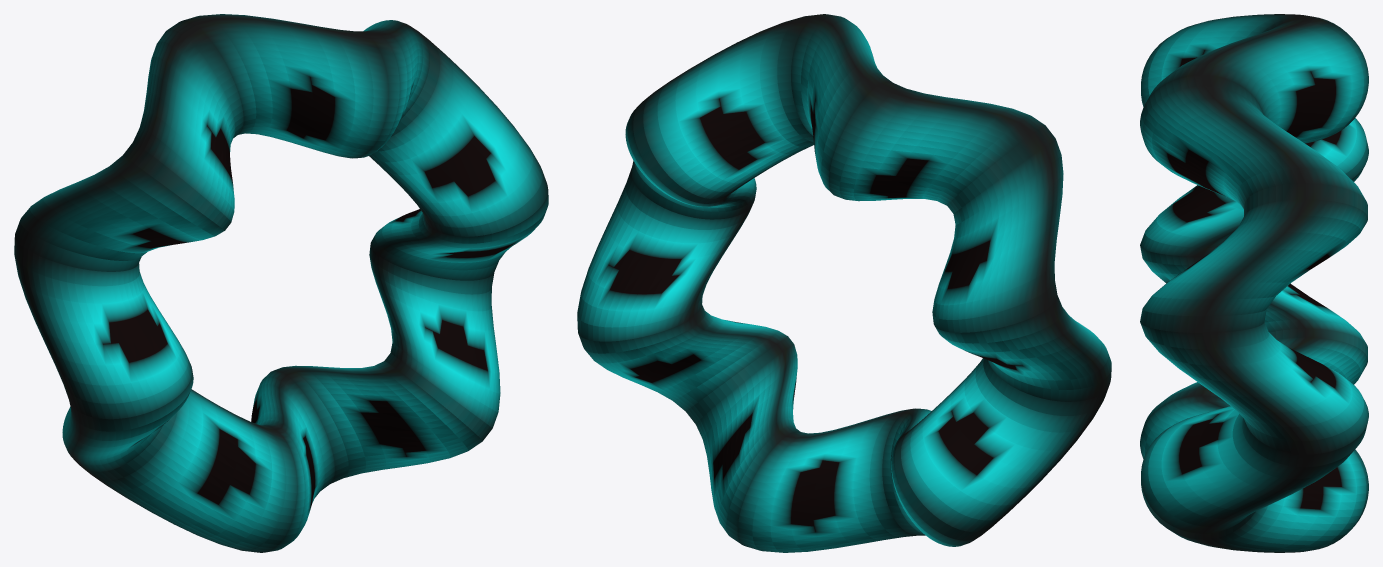
The model's file is step_12.glb.
The picture shows the model from 3 angles, left to right: view 1: azimuth 30°, elevation 25°; view 2: azimuth 150°, elevation 25°; view 3: azimuth 270°, elevation 25°; orthographic projection. The views are drawn at different scales.
Visible parts, largest first — view 1: world; view 2: world; view 3: world.
Part boxes in pixels (x1,y1,x2,y2): world: (14,14,548,552); world: (577,14,1111,552); world: (1140,14,1368,552).
Size of the model in its own units: 26 by 26 by 11.03.
